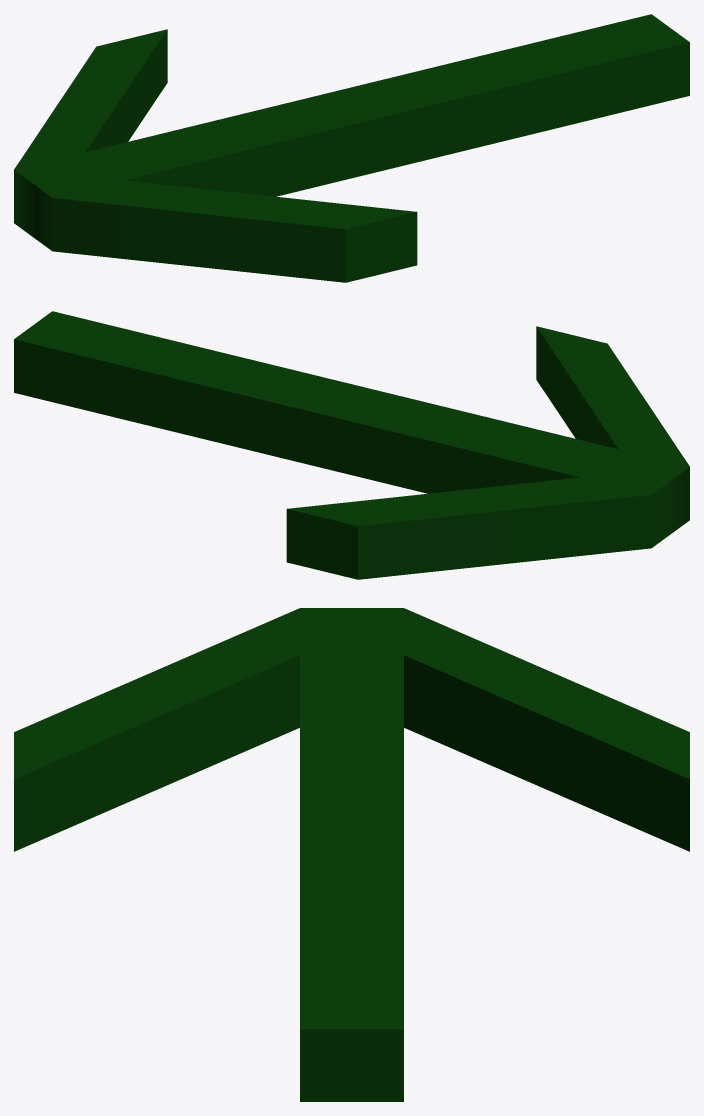
Rendered from Arrow.fbx.
3 views of the same model, one above another, from view 1: azimuth 30°, elevation 25°; view 2: azimuth 150°, elevation 25°; view 3: azimuth 270°, elevation 25° (orthographic). The views are drawn at different scales.
Visible parts, largest first — view 1: pCube1; view 2: pCube1; view 3: pCube1.
Boxes of the visible parts, x1,y1,x2,y2 form: pCube1: (14,14,689,282); pCube1: (14,311,689,579); pCube1: (14,608,689,1101).
Size of the model in its own units: 0.4392 by 0.0352 by 0.2978.
